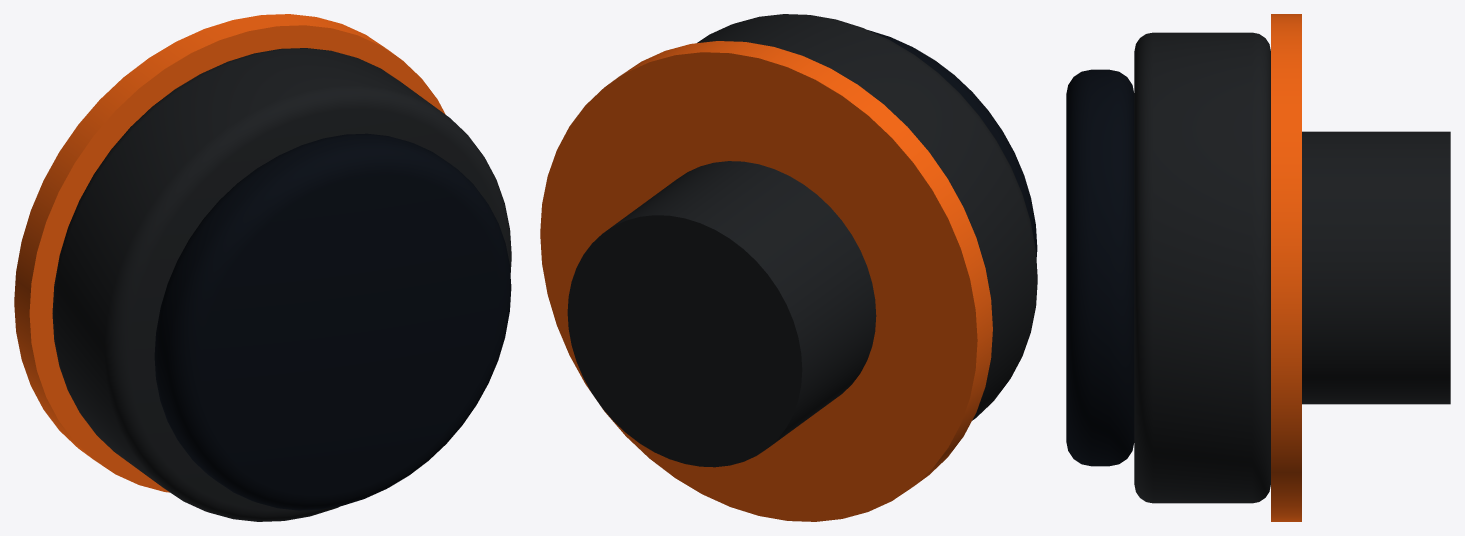
The model's file is lidar_link_visual.obj.
The picture shows the model from 3 angles, left to right: view 1: azimuth 30°, elevation 25°; view 2: azimuth 150°, elevation 25°; view 3: azimuth 270°, elevation 25°; orthographic projection.
Visible parts, largest first — view 1: lidar_link_visual.001; view 2: lidar_link_visual.001; view 3: lidar_link_visual.001.
Part boxes in pixels (<box>): lidar_link_visual.001: <box>14,14,511,521</box>; lidar_link_visual.001: <box>540,14,1037,521</box>; lidar_link_visual.001: <box>1066,14,1450,521</box>.
Size of the model in its own units: 0.082 by 0.082 by 0.062.
